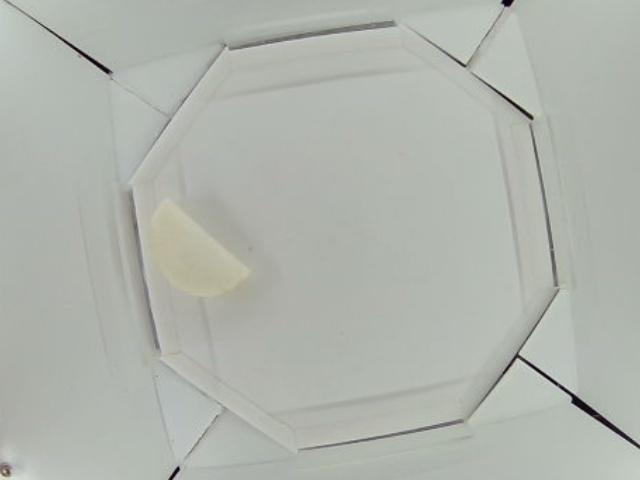Mooli: (151, 195, 250, 295)
